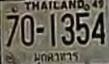0: (20, 14, 34, 45)
1: (50, 14, 54, 46)
3: (60, 14, 74, 44)
4: (91, 11, 104, 44)
5: (76, 12, 88, 44)
7: (6, 14, 18, 46)
MDH: (33, 50, 81, 64)
